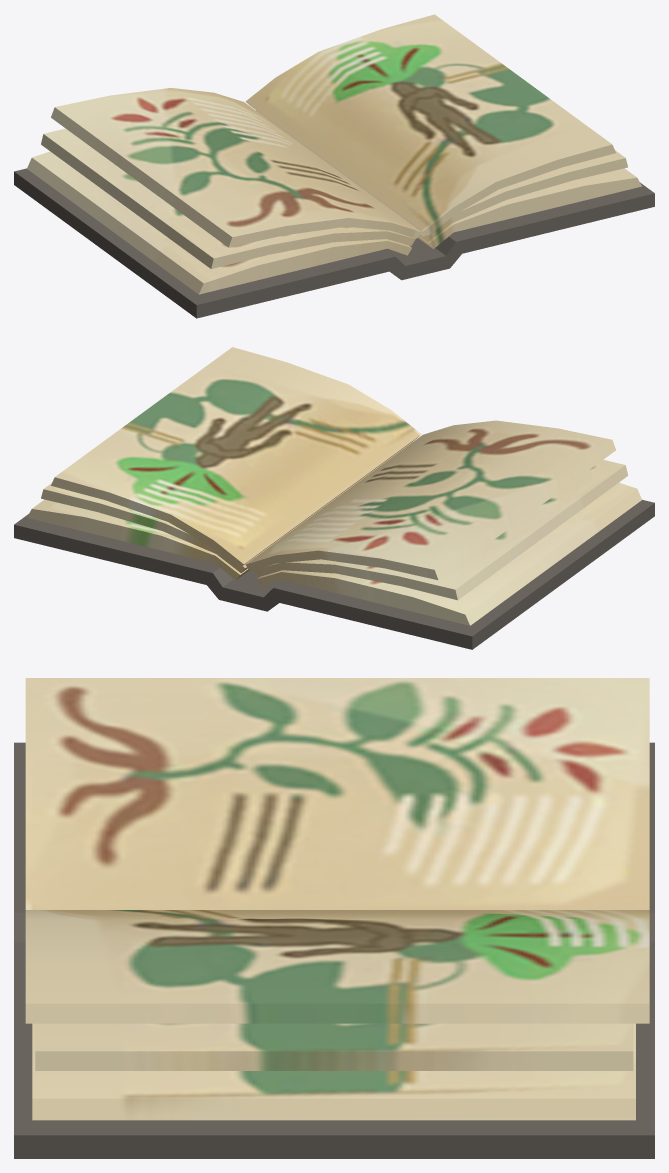
File: Voynich.fbx
3 views of the same model, one above another, from view 1: azimuth 30°, elevation 25°; view 2: azimuth 150°, elevation 25°; view 3: azimuth 270°, elevation 25° (orthographic). The views are drawn at different scales.
Visible parts, largest first — view 1: pCube2; view 2: pCube2; view 3: pCube2.
Boxes of the visible parts, x1=… form: pCube2: x1=14, y1=14, x2=654, y2=318; pCube2: x1=14, y1=347, x2=654, y2=649; pCube2: x1=14, y1=678, x2=654, y2=1158.
Bounding box in the file's own units: 1.79 × 0.3021 × 1.23.
